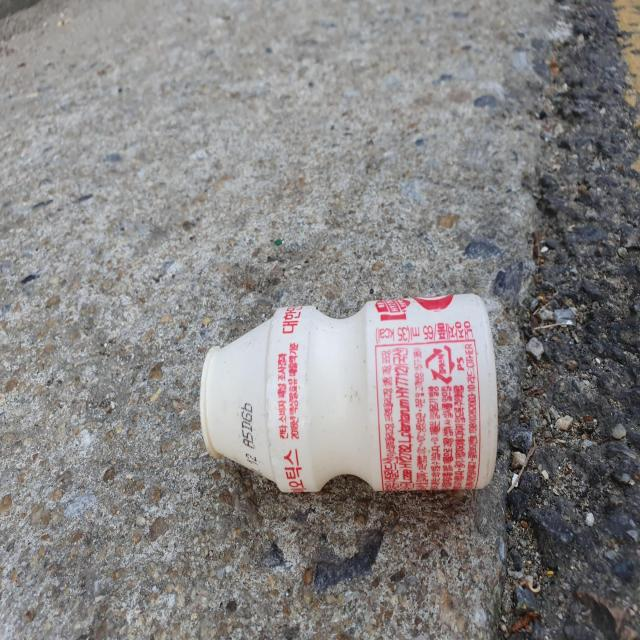plastic: (200, 294, 498, 493)
